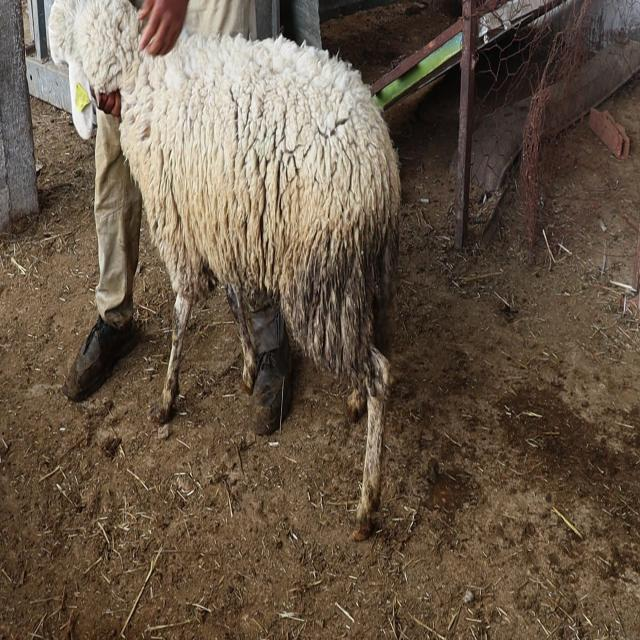Score_3: (46, 0, 401, 539)
